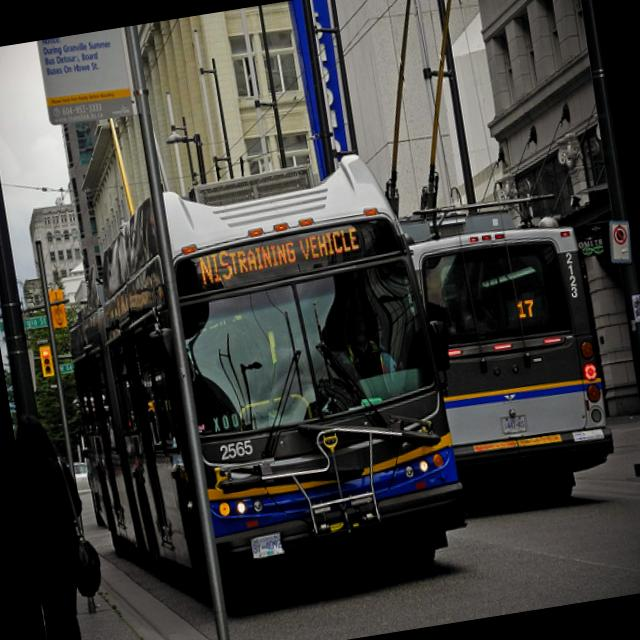Vehicle: (41, 134, 500, 615), (413, 216, 617, 518), (73, 460, 91, 497)
